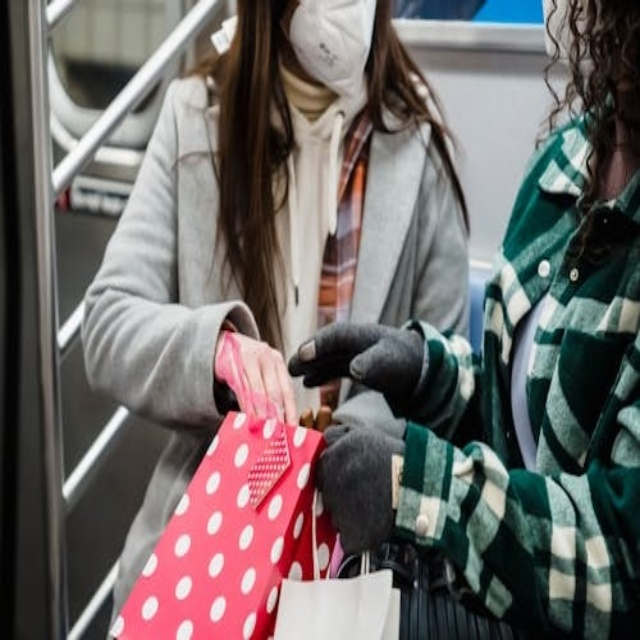Guantes: (315, 419, 412, 557), (287, 319, 400, 391)
Mascara: (280, 0, 376, 106), (543, 1, 609, 90)
Sin_guantes: (214, 327, 298, 427)
